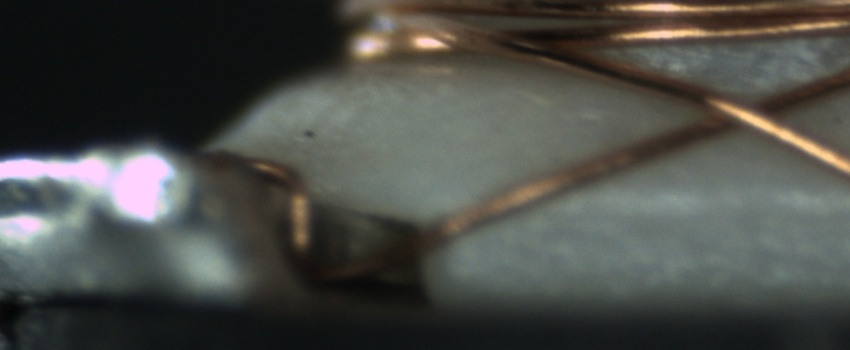CL: (677, 83, 808, 143)
DL: (524, 170, 850, 234)
TE: (236, 142, 329, 280)
